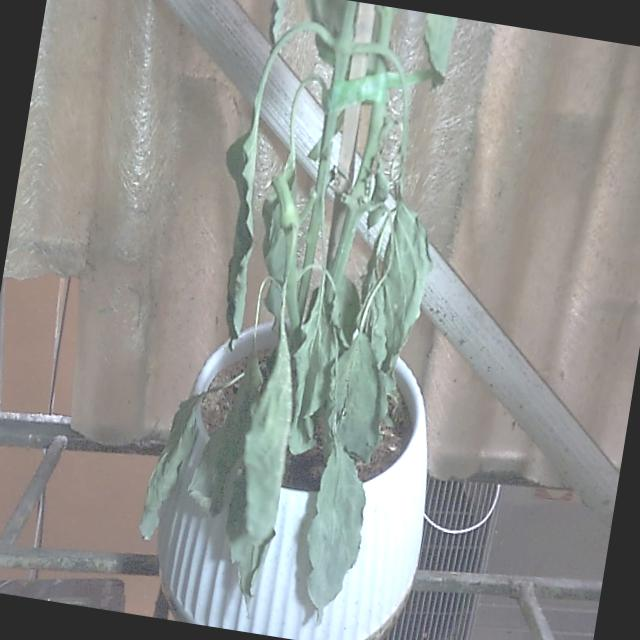Leaf: (189, 356, 262, 515), (244, 324, 293, 543), (308, 443, 365, 621), (140, 395, 203, 540), (226, 116, 258, 340), (425, 13, 458, 85)
